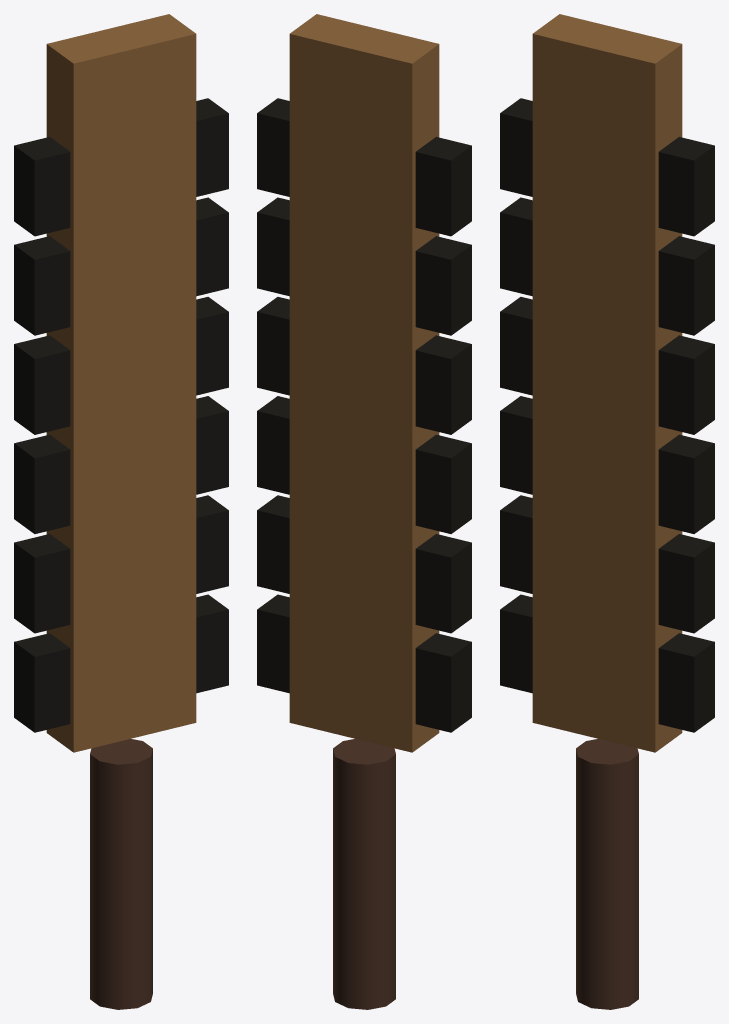
File: jaguar-macuahuitl.glb
3 views of the same model, side by side, from view 1: azimuth 30°, elevation 25°; view 2: azimuth 150°, elevation 25°; view 3: azimuth 330°, elevation 25° (orthographic).
Parts seen in each view (by area): view 1: WoodBody, ObsidianInset (×12), Grip; view 2: WoodBody, ObsidianInset (×12), Grip; view 3: WoodBody, ObsidianInset (×12), Grip.
Part boxes in pixels (left/top/right/bottom): WoodBody: left=46, top=14, right=196, bottom=752; ObsidianInset (×12): left=14, top=98, right=228, bottom=732; Grip: left=90, top=739, right=152, bottom=1009; WoodBody: left=289, top=14, right=439, bottom=752; ObsidianInset (×12): left=257, top=98, right=471, bottom=732; Grip: left=333, top=739, right=395, bottom=1009; WoodBody: left=532, top=14, right=682, bottom=752; ObsidianInset (×12): left=500, top=98, right=714, bottom=732; Grip: left=576, top=739, right=638, bottom=1009.
Size of the model in its own units: 0.174 by 0.82 by 0.05.
